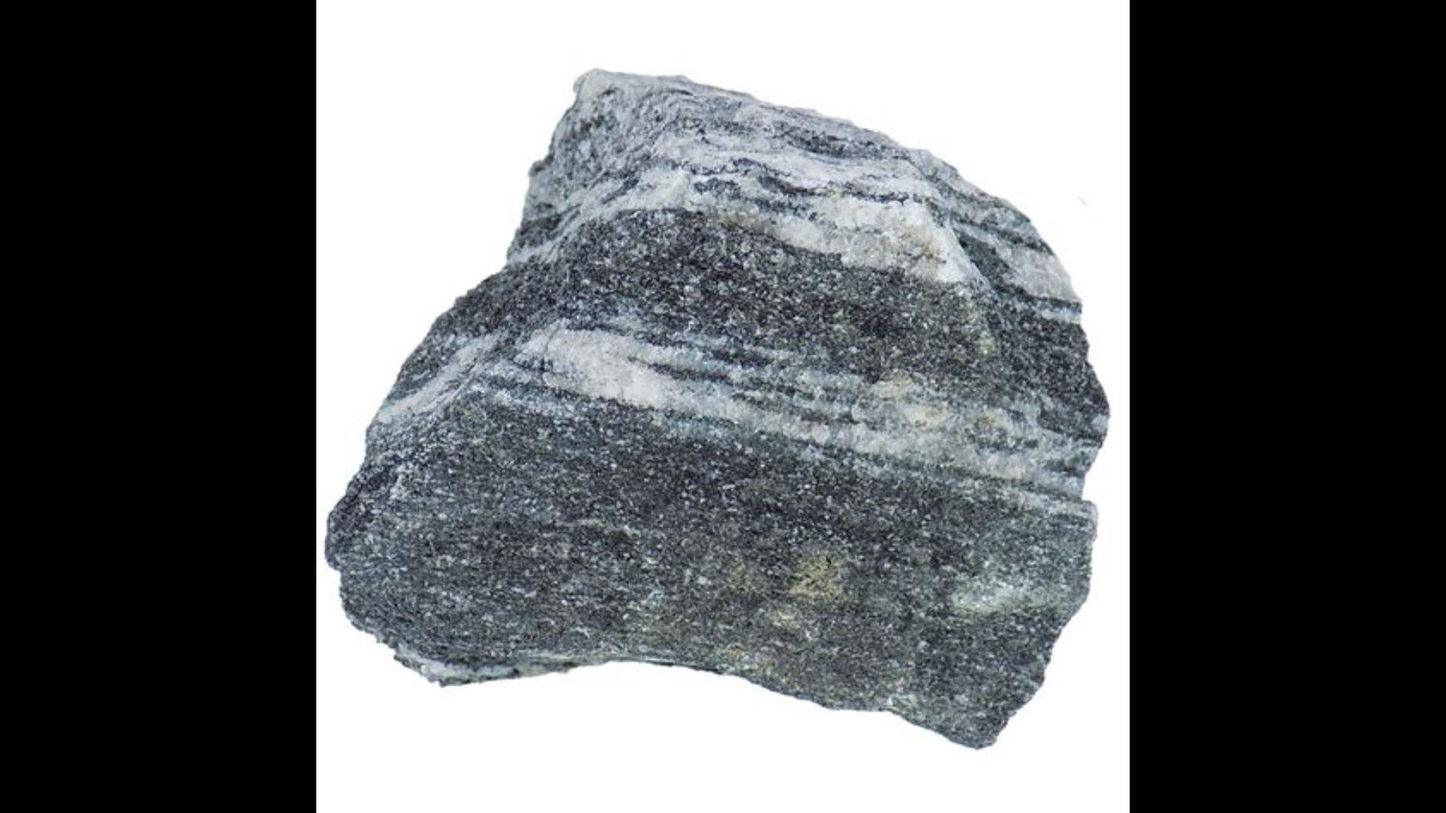rock: (327, 77, 1106, 734)
